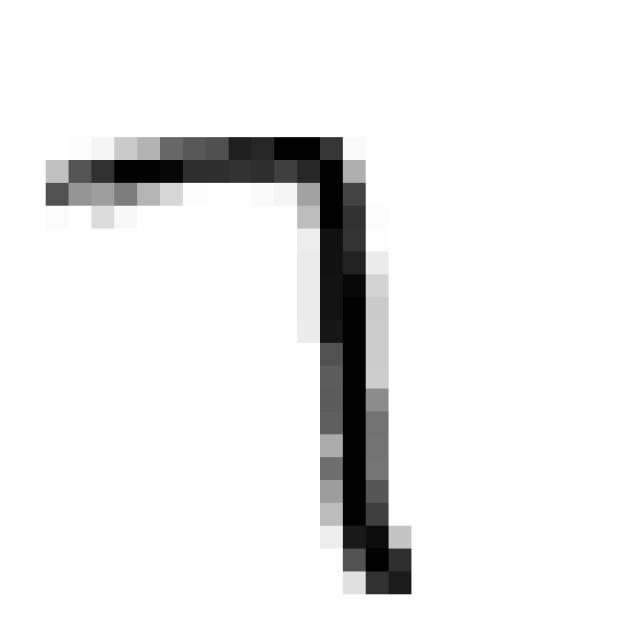6 -six-: (30, 121, 432, 611)
